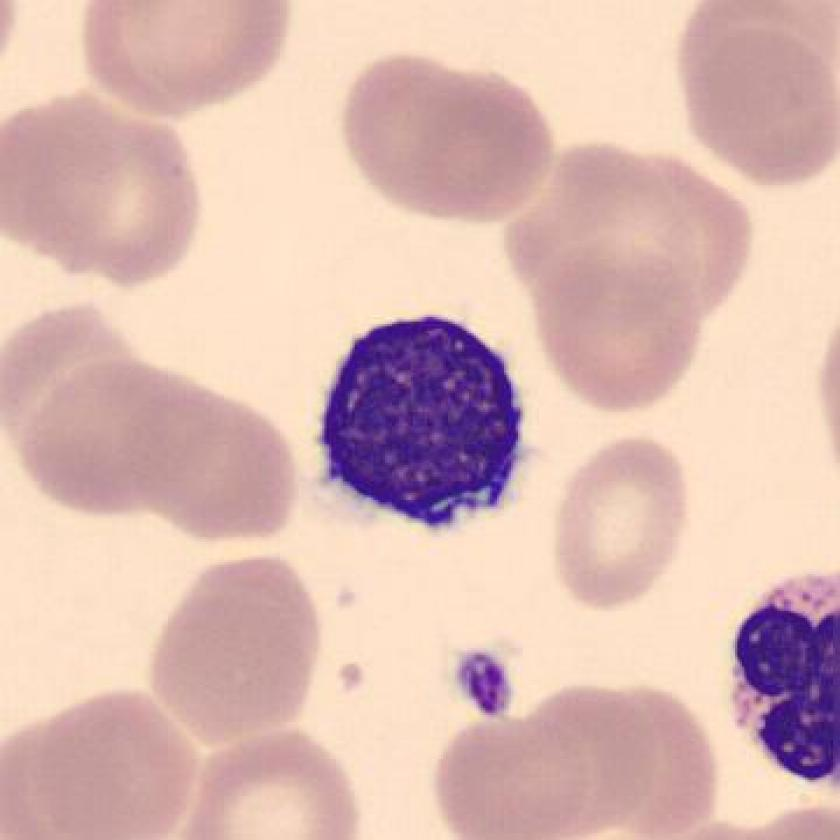lymphocyte: (312, 300, 536, 543)
